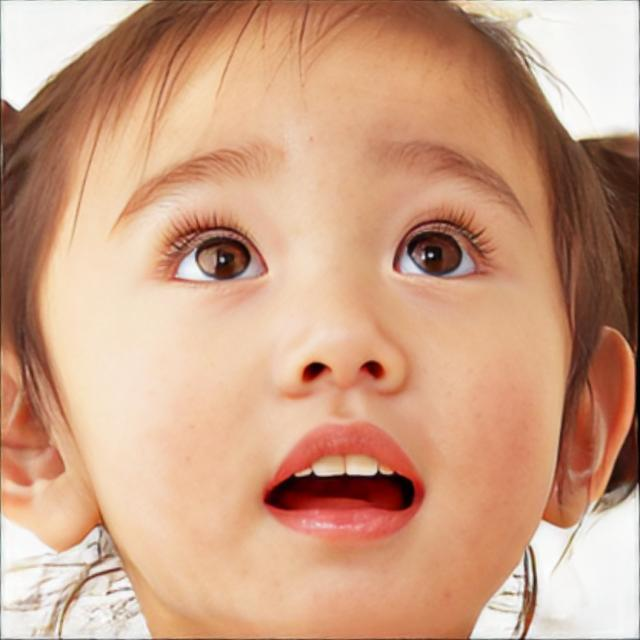surprise: (36, 6, 576, 640)
